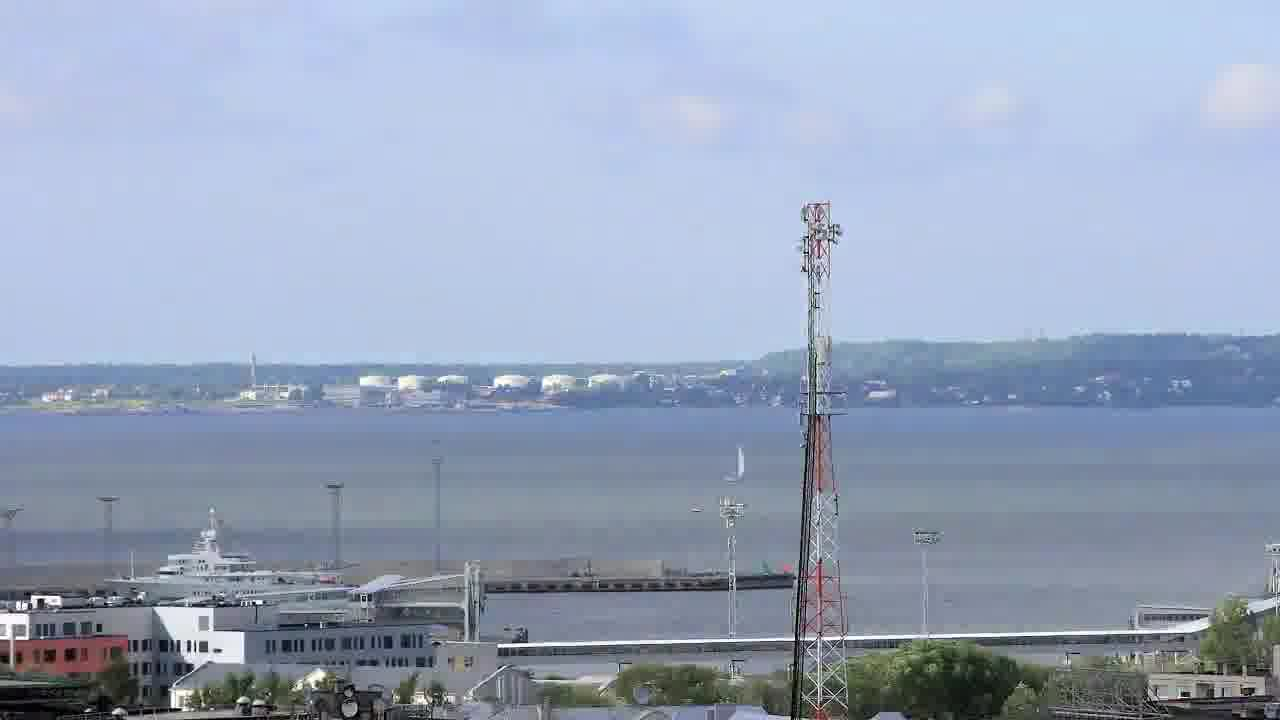type-2: (707, 430, 767, 499)
type-3: (84, 515, 355, 603)
